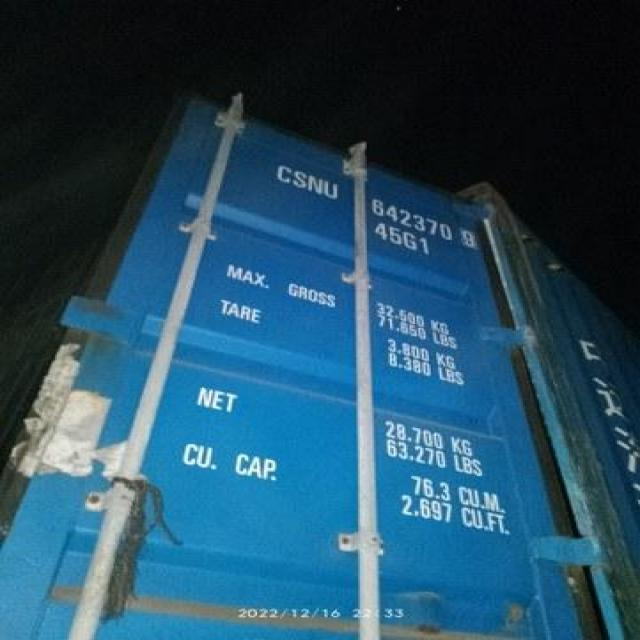container_number_h: (247, 139, 512, 273)
